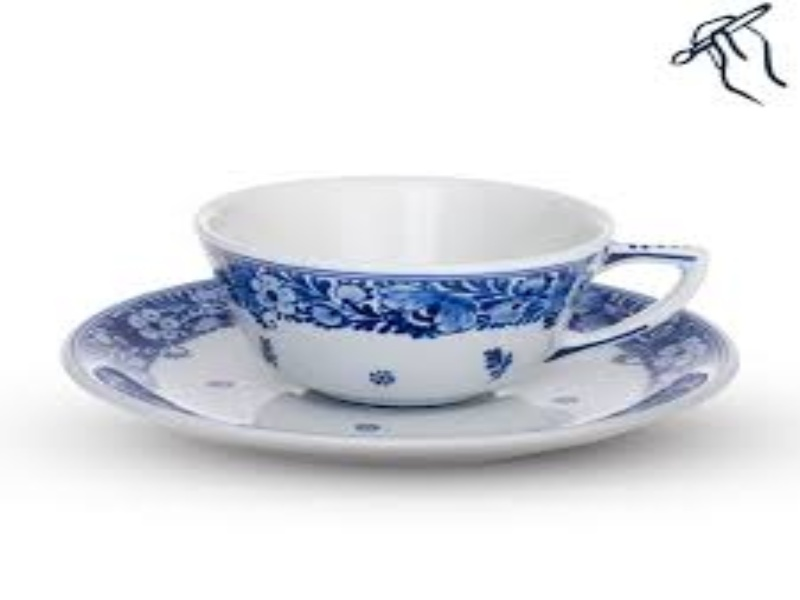cup: (183, 135, 706, 435)
